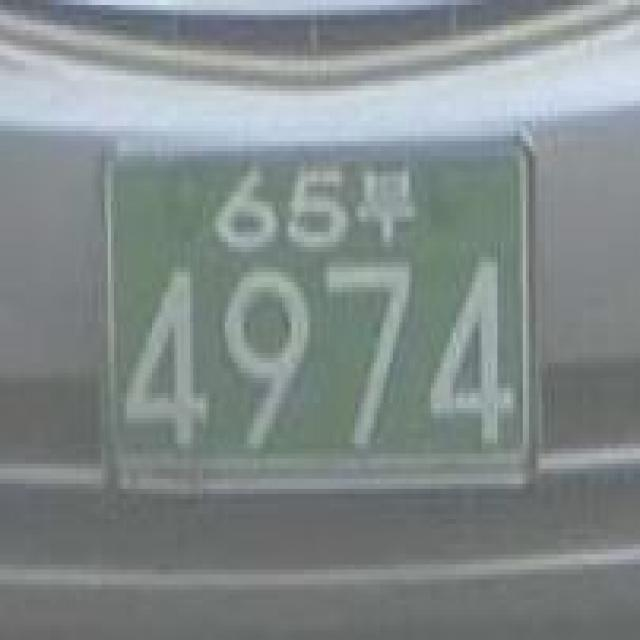illegal_plate: (87, 117, 553, 526)
